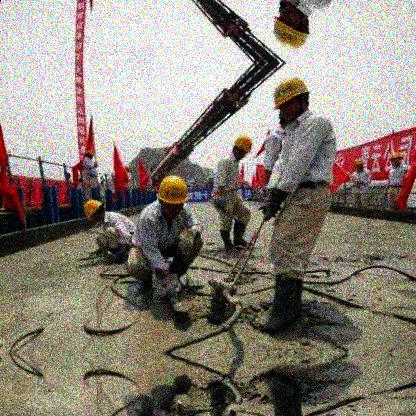helmet: (274, 1, 310, 50), (273, 76, 312, 121), (155, 174, 191, 217), (231, 135, 255, 161), (81, 200, 106, 224), (389, 151, 404, 169), (352, 157, 364, 172)
